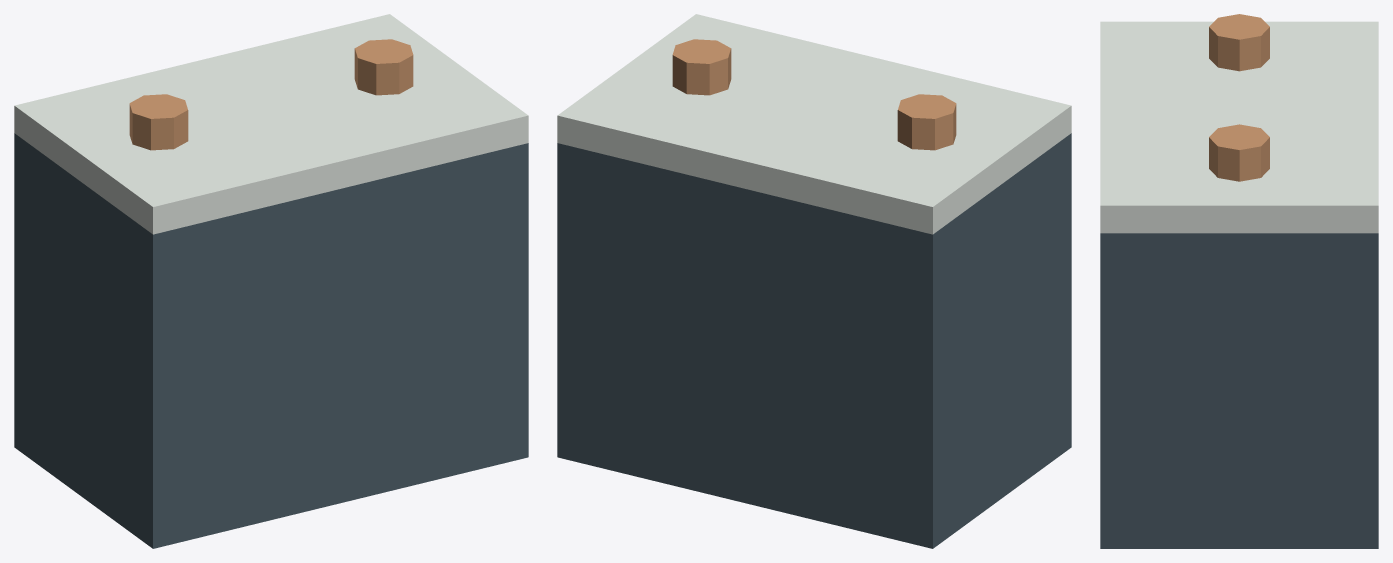
Rendered from industrial-battery.glb.
3 renders of one model, left to right at view 1: azimuth 30°, elevation 25°; view 2: azimuth 150°, elevation 25°; view 3: azimuth 270°, elevation 25°, orthographic.
Parts seen in each view (by area): view 1: dark, cream, copper; view 2: dark, cream, copper; view 3: dark, cream, copper.
Part boxes in pixels (x1=…): dark: x1=14, y1=133, x2=528, y2=548; cream: x1=14, y1=14, x2=528, y2=234; copper: x1=129, y1=39, x2=413, y2=150; dark: x1=557, y1=133, x2=1071, y2=548; cream: x1=557, y1=14, x2=1071, y2=234; copper: x1=672, y1=39, x2=956, y2=150; dark: x1=1100, y1=233, x2=1378, y2=548; cream: x1=1100, y1=21, x2=1378, y2=233; copper: x1=1209, y1=14, x2=1269, y2=181.
Bounding box in the file's own units: 0.5 × 0.475 × 0.32.
